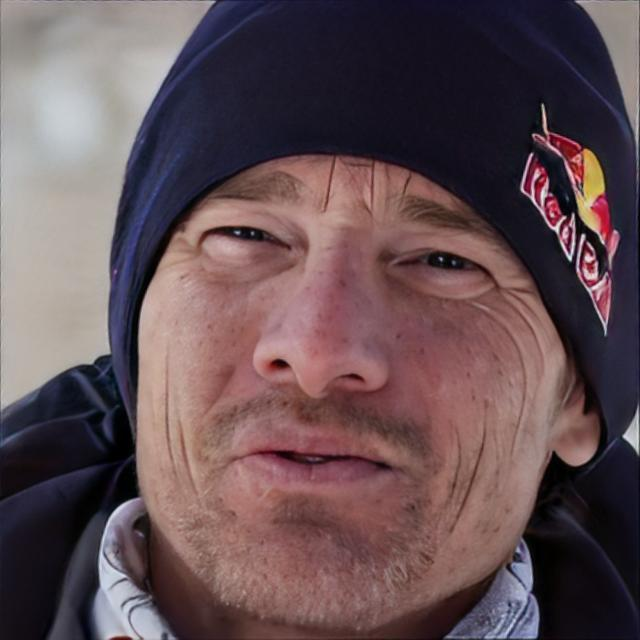disgust: (136, 149, 564, 633)
